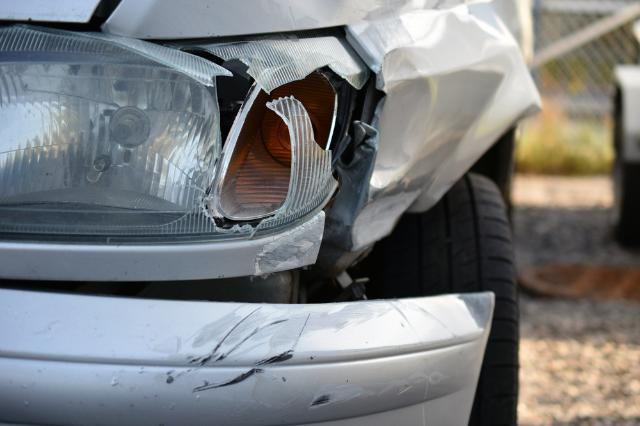dent: (375, 18, 507, 187)
dislocated part: (0, 183, 498, 425)
lamp broken: (0, 27, 369, 241)
scratch: (158, 299, 458, 413), (248, 214, 325, 277)
